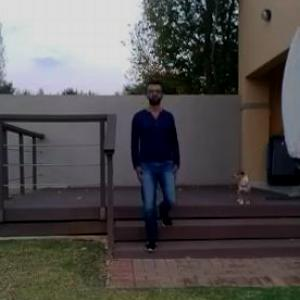follow: (130, 77, 174, 250)
